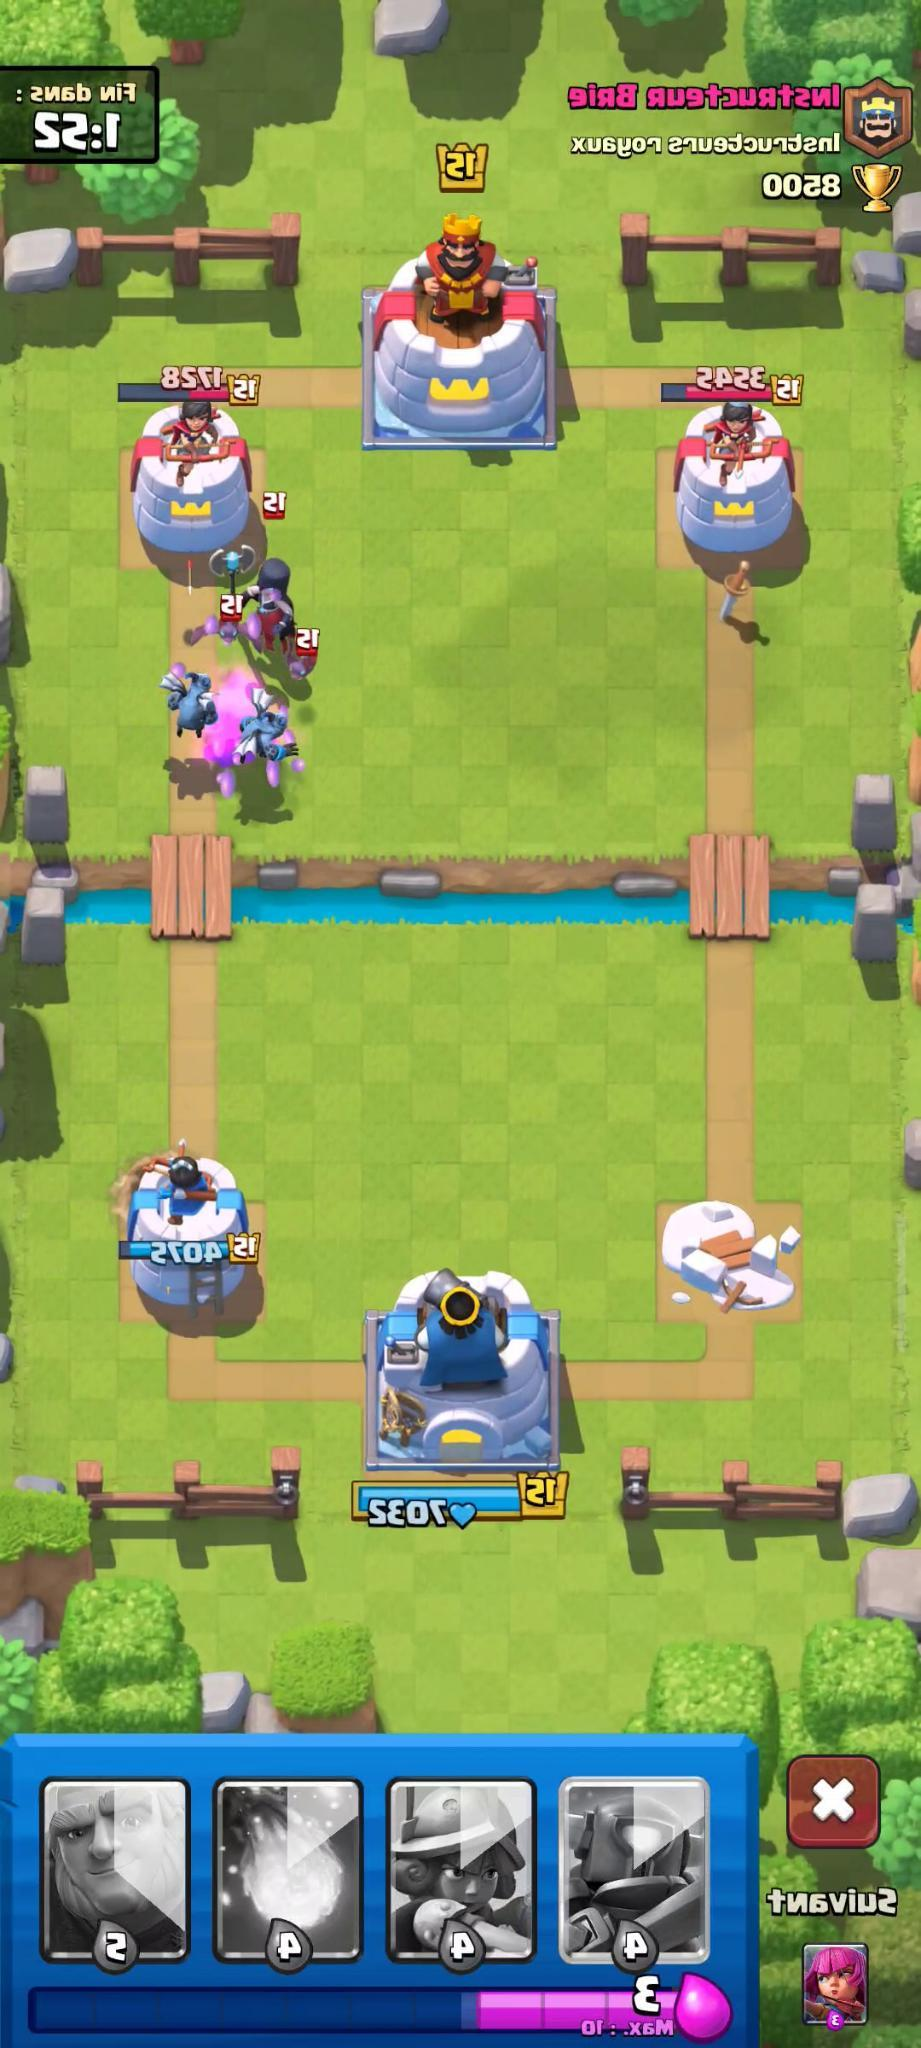enemy_bats: (275, 628, 324, 692), (202, 592, 252, 654)
enemy_night_witch: (212, 493, 305, 646)
player_minions: (154, 659, 225, 737), (233, 694, 299, 755)
